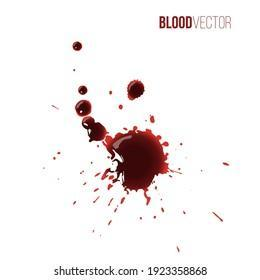Fire: (100, 125, 169, 205), (81, 115, 106, 142), (127, 79, 144, 100), (74, 99, 91, 116), (71, 40, 81, 51), (77, 85, 87, 95)
